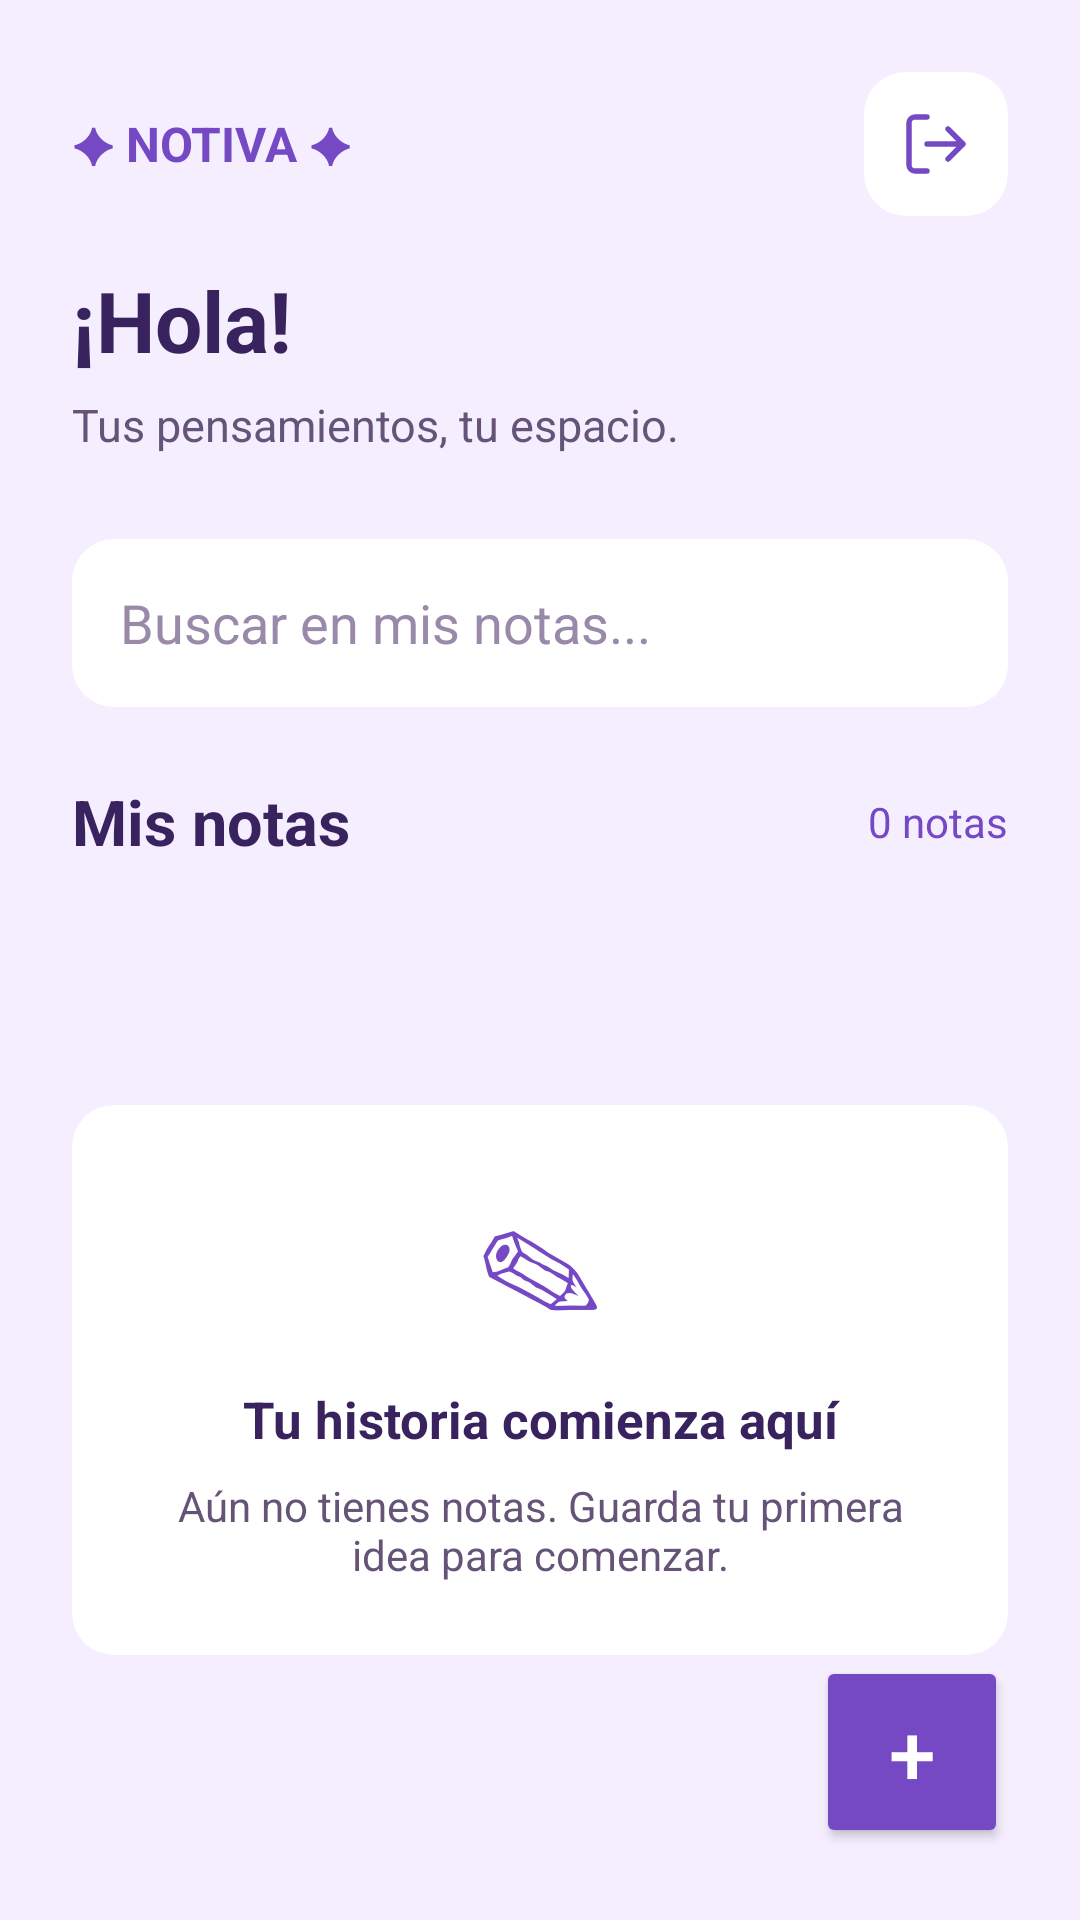

Locate icon controls on the screen. Image size 1080px×1920px, boxes as (x1, y1, x2, y2).
Cerrar sesión: (864, 72, 1008, 216)
